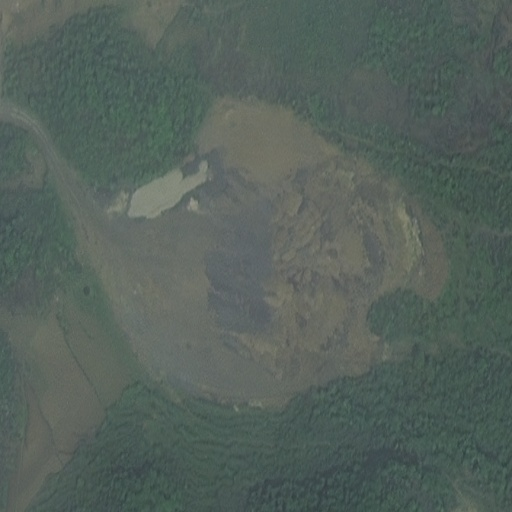landslide: (198, 95, 408, 398)
